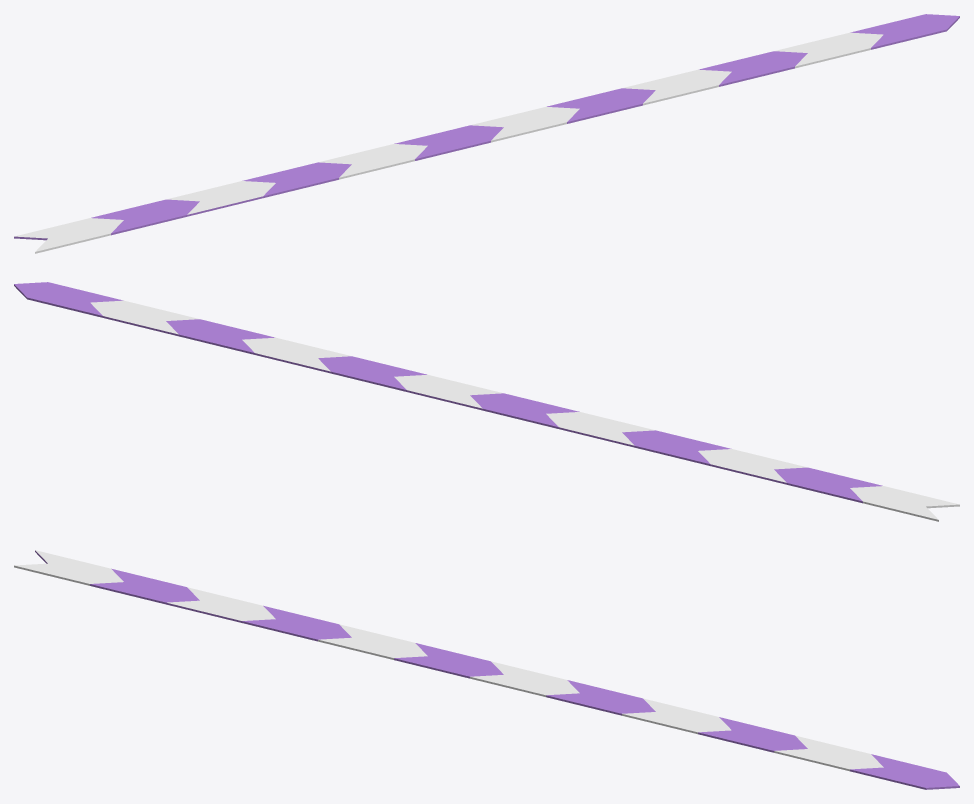
File: ground (1).fbx
3 renders of one model, top to bottom at view 1: azimuth 30°, elevation 25°; view 2: azimuth 150°, elevation 25°; view 3: azimuth 330°, elevation 25°, orthographic.
Visible parts, largest first — view 1: Cube; view 2: Cube; view 3: Cube.
Boxes of the visible parts, x1,y1,x2,y2 form: Cube: (14,14,959,253); Cube: (14,282,959,521); Cube: (14,550,959,789).
Bounding box in the file's own units: 51295 × 100 × 2000.
